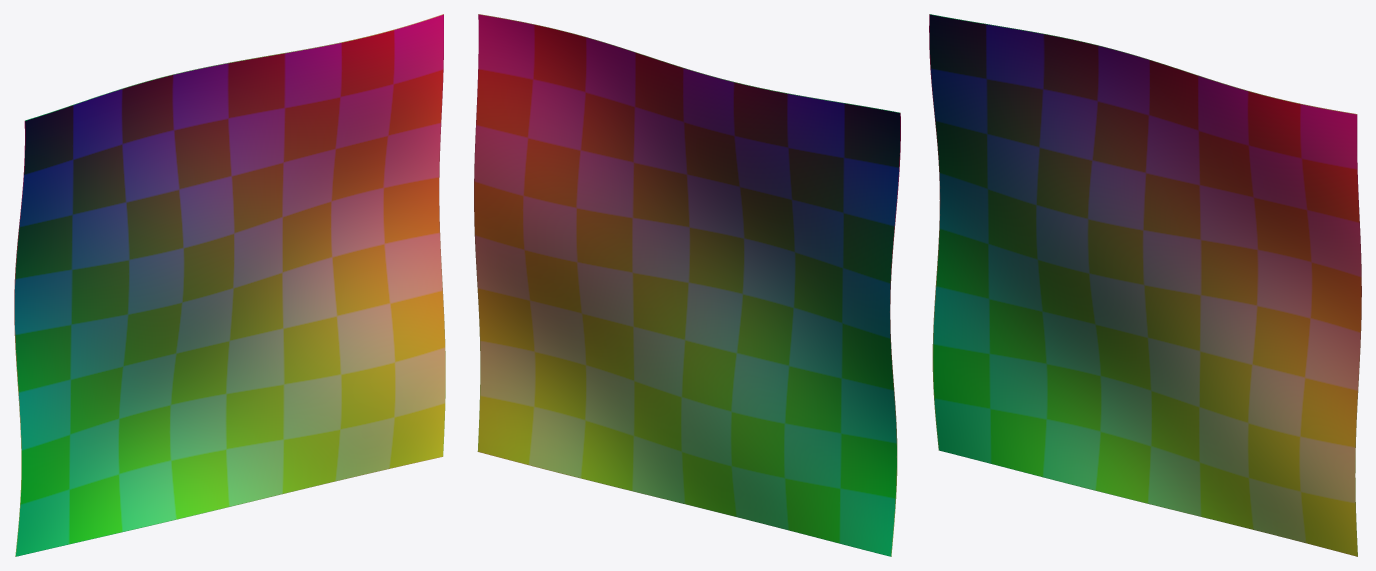
Rendered from Tile_+005_+008.obj.
3 views of the same model, side by side, from view 1: azimuth 30°, elevation 25°; view 2: azimuth 150°, elevation 25°; view 3: azimuth 330°, elevation 25° (orthographic).
Bounding box in the file's own units: 100 × 100 × 5.64.
